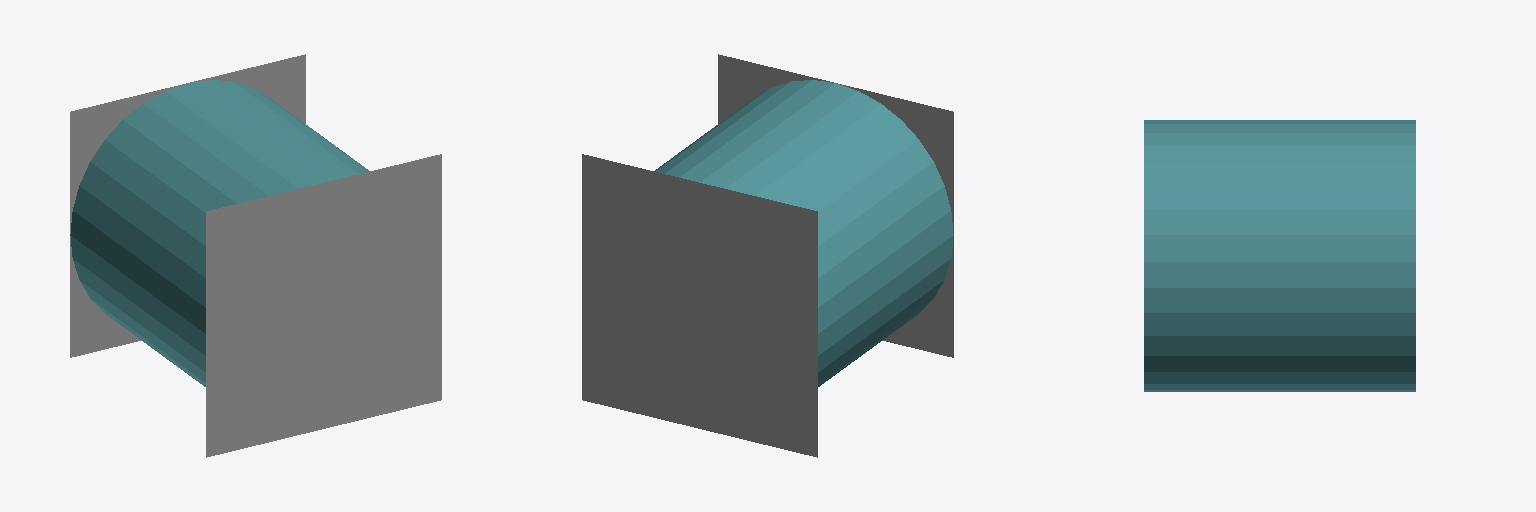
File: cylinderAsHole.obj
3 views of the same model, side by side, from view 1: azimuth 30°, elevation 25°; view 2: azimuth 150°, elevation 25°; view 3: azimuth 270°, elevation 25° (orthographic).
Parts seen in each view (by area): view 1: Plane, Cylinder_Cylinder.001, Plane.001; view 2: Plane.001, Cylinder_Cylinder.001, Plane; view 3: Cylinder_Cylinder.001.
Part boxes in pixels (x1,y1,x2,y2): Plane: (206,154,441,457); Cylinder_Cylinder.001: (70,80,369,386); Plane.001: (70,54,305,357); Plane.001: (582,154,817,457); Cylinder_Cylinder.001: (654,80,953,386); Plane: (718,54,953,357); Cylinder_Cylinder.001: (1144,120,1415,391).
Size of the model in its own units: 1 by 1 by 1.